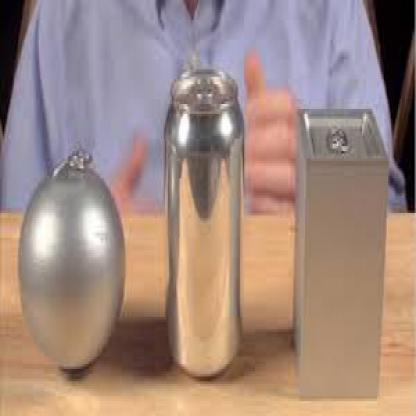METAL: (292, 104, 387, 401), (15, 144, 124, 378), (162, 70, 243, 382)
